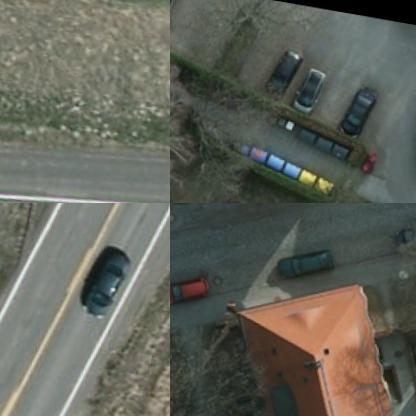car: (79, 244, 130, 322), (274, 236, 330, 284), (290, 60, 330, 115), (262, 44, 298, 96), (337, 82, 372, 134), (170, 264, 210, 307), (393, 207, 415, 262)
